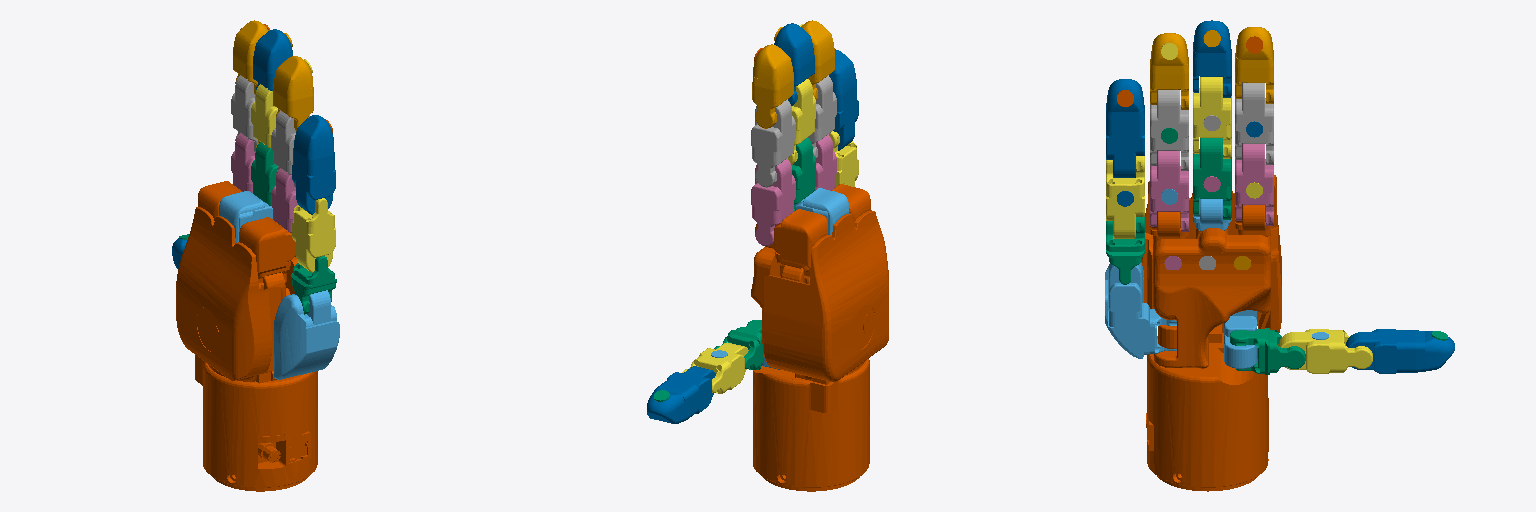
--- Render facts (derived) ---
3 views of the same robot in one strip: view 1: azimuth 30°, elevation 25°; view 2: azimuth 150°, elevation 25°; view 3: azimuth 270°, elevation 25° (orthographic).
Robot: tesollo_right — 38 links, 37 joints (20 revolute, 17 fixed); root link tesollo_right_rl_dg_mount; default pose: all joints at 0.
Links seen in each view (by area): view 1: tesollo_right_rl_dg_mount, tesollo_right_rl_dg_5_1, tesollo_right_rl_dg_5_4, tesollo_right_rl_dg_4_1, tesollo_right_rl_dg_5_3, tesollo_right_rl_dg_4_4, tesollo_right_rl_dg_3_4, tesollo_right_rl_dg_3_1, tesollo_right_rl_dg_5_2, tesollo_right_rl_dg_2_4, tesollo_right_rl_dg_2_3, tesollo_right_rl_dg_3_3 (+5 smaller); view 2: tesollo_right_rl_dg_mount, tesollo_right_rl_dg_1_4, tesollo_right_rl_dg_2_4, tesollo_right_rl_dg_2_1, tesollo_right_rl_dg_2_3, tesollo_right_rl_dg_2_2, tesollo_right_rl_dg_5_4, tesollo_right_rl_dg_1_3, tesollo_right_rl_dg_3_4, tesollo_right_rl_dg_4_4, tesollo_right_rl_dg_3_3, tesollo_right_rl_dg_4_3 (+6 smaller); view 3: tesollo_right_rl_dg_mount, tesollo_right_rl_dg_5_1, tesollo_right_rl_dg_1_4, tesollo_right_rl_dg_5_4, tesollo_right_rl_dg_1_3, tesollo_right_rl_dg_5_3, tesollo_right_rl_dg_2_2, tesollo_right_rl_dg_2_3, tesollo_right_rl_dg_3_2, tesollo_right_rl_dg_3_3, tesollo_right_rl_dg_4_3, tesollo_right_rl_dg_4_2 (+9 smaller).
Boxes of the visible links, left/top/right/bottom form: tesollo_right_rl_dg_mount: left=176, top=207, right=317, bottom=491; tesollo_right_rl_dg_5_1: left=274, top=290, right=339, bottom=379; tesollo_right_rl_dg_5_4: left=292, top=115, right=335, bottom=214; tesollo_right_rl_dg_4_1: left=239, top=217, right=295, bottom=290; tesollo_right_rl_dg_5_3: left=292, top=198, right=335, bottom=272; tesollo_right_rl_dg_4_4: left=273, top=56, right=313, bottom=130; tesollo_right_rl_dg_3_4: left=253, top=29, right=292, bottom=90; tesollo_right_rl_dg_3_1: left=219, top=191, right=272, bottom=242; tesollo_right_rl_dg_5_2: left=291, top=256, right=336, bottom=314; tesollo_right_rl_dg_2_4: left=233, top=20, right=268, bottom=94; tesollo_right_rl_dg_2_3: left=231, top=75, right=257, bottom=152; tesollo_right_rl_dg_3_3: left=251, top=84, right=277, bottom=147; tesollo_right_rl_dg_mount: left=751, top=210, right=888, bottom=491; tesollo_right_rl_dg_1_4: left=647, top=366, right=715, bottom=423; tesollo_right_rl_dg_2_4: left=752, top=44, right=793, bottom=128; tesollo_right_rl_dg_2_1: left=755, top=209, right=827, bottom=283; tesollo_right_rl_dg_2_3: left=751, top=99, right=795, bottom=187; tesollo_right_rl_dg_2_2: left=751, top=158, right=795, bottom=245; tesollo_right_rl_dg_5_4: left=829, top=49, right=858, bottom=150; tesollo_right_rl_dg_1_3: left=682, top=342, right=748, bottom=393; tesollo_right_rl_dg_3_4: left=774, top=23, right=814, bottom=105; tesollo_right_rl_dg_4_4: left=801, top=20, right=834, bottom=99; tesollo_right_rl_dg_3_3: left=788, top=79, right=815, bottom=164; tesollo_right_rl_dg_4_3: left=808, top=75, right=836, bottom=158; tesollo_right_rl_dg_mount: left=1141, top=191, right=1281, bottom=491; tesollo_right_rl_dg_5_1: left=1105, top=262, right=1176, bottom=358; tesollo_right_rl_dg_1_4: left=1346, top=329, right=1454, bottom=373; tesollo_right_rl_dg_5_4: left=1106, top=79, right=1144, bottom=177; tesollo_right_rl_dg_1_3: left=1278, top=329, right=1372, bottom=373; tesollo_right_rl_dg_5_3: left=1106, top=156, right=1144, bottom=238; tesollo_right_rl_dg_2_2: left=1235, top=143, right=1273, bottom=225; tesollo_right_rl_dg_2_3: left=1235, top=82, right=1273, bottom=164; tesollo_right_rl_dg_3_2: left=1193, top=138, right=1231, bottom=219; tesollo_right_rl_dg_3_3: left=1193, top=77, right=1231, bottom=158; tesollo_right_rl_dg_4_3: left=1150, top=89, right=1188, bottom=170; tesollo_right_rl_dg_4_2: left=1150, top=150, right=1188, bottom=231.
Size in the robot's own frame: 0.0735 by 0.2022 by 0.2911 metres.
28 mesh visuals loaded from 28 distinct referenced files (28 OBJ).

URDF robot description (tesollo_right):
<?xml version='1.0' encoding='UTF-8'?>
<robot name="tesollo_right">
  <joint name="rj_dg_1_1" type="revolute">
    <origin xyz="-0.0162 0.019 0.0866" rpy="0. 0. 0." />
    <parent link="tesollo_right_rl_dg_mount" />
    <child link="tesollo_right_rl_dg_1_1" />
    <axis xyz="1. 0. 0." />
    <limit lower="-0.3839724" upper="0.8901179" effort="7.5" velocity="3.1415927" />
  </joint>
  <joint name="rj_dg_1_2" type="revolute">
    <origin xyz="0.04195 0. 0. " rpy="0. 0. 0." />
    <parent link="tesollo_right_rl_dg_1_1" />
    <child link="tesollo_right_rl_dg_1_2" />
    <axis xyz="0. 0. 1." />
    <limit lower="-3.1415927" upper="0." effort="7.5" velocity="3.1415927" />
  </joint>
  <joint name="rj_dg_1_3" type="revolute">
    <origin xyz="0. 0.031 0. " rpy="0. 0. 0." />
    <parent link="tesollo_right_rl_dg_1_2" />
    <child link="tesollo_right_rl_dg_1_3" />
    <axis xyz="1. 0. 0." />
    <limit lower="-1.5707963" upper="1.5707963" effort="7.5" velocity="3.1415927" />
  </joint>
  <joint name="rj_dg_1_4" type="revolute">
    <origin xyz="0. 0.0388 0. " rpy="0. 0. 0." />
    <parent link="tesollo_right_rl_dg_1_3" />
    <child link="tesollo_right_rl_dg_1_4" />
    <axis xyz="1. 0. 0." />
    <limit lower="-1.5707963" upper="1.5707963" effort="7.5" velocity="3.1415927" />
  </joint>
  <joint name="rj_dg_2_1" type="revolute">
    <origin xyz="-0.0071 0.027 0.1399" rpy="0. 0. 0." />
    <parent link="tesollo_right_rl_dg_mount" />
    <child link="tesollo_right_rl_dg_2_1" />
    <axis xyz="1. 0. 0." />
    <limit lower="-0.418879" upper="0.6108652" effort="7.5" velocity="3.1415927" />
  </joint>
  <joint name="rj_dg_2_2" type="revolute">
    <origin xyz="0.01765 0. 0.0265 " rpy="0. 0. 0." />
    <parent link="tesollo_right_rl_dg_2_1" />
    <child link="tesollo_right_rl_dg_2_2" />
    <axis xyz="0. 1. 0." />
    <limit lower="0." upper="2.0071286" effort="7.5" velocity="3.1415927" />
  </joint>
  <joint name="rj_dg_2_3" type="revolute">
    <origin xyz="0. 0. 0.0388" rpy="0. 0. 0." />
    <parent link="tesollo_right_rl_dg_2_2" />
    <child link="tesollo_right_rl_dg_2_3" />
    <axis xyz="0. 1. 0." />
    <limit lower="-1.5707963" upper="1.5707963" effort="7.5" velocity="3.1415927" />
  </joint>
  <joint name="rj_dg_2_4" type="revolute">
    <origin xyz="0. 0. 0.0388" rpy="0. 0. 0." />
    <parent link="tesollo_right_rl_dg_2_3" />
    <child link="tesollo_right_rl_dg_2_4" />
    <axis xyz="0. 1. 0." />
    <limit lower="-1.5707963" upper="1.5707963" effort="7.5" velocity="3.1415927" />
  </joint>
  <joint name="rj_dg_3_1" type="revolute">
    <origin xyz="-0.0071 0.0025 0.1439" rpy="0. 0. 0." />
    <parent link="tesollo_right_rl_dg_mount" />
    <child link="tesollo_right_rl_dg_3_1" />
    <axis xyz="1. 0. 0." />
    <limit lower="-0.6108652" upper="0.6108652" effort="7.5" velocity="3.1415927" />
  </joint>
  <joint name="rj_dg_3_2" type="revolute">
    <origin xyz="0.01765 0. 0.0265 " rpy="0. 0. 0." />
    <parent link="tesollo_right_rl_dg_3_1" />
    <child link="tesollo_right_rl_dg_3_2" />
    <axis xyz="0. 1. 0." />
    <limit lower="0." upper="1.9547686" effort="7.5" velocity="3.1415927" />
  </joint>
  <joint name="rj_dg_3_3" type="revolute">
    <origin xyz="0. 0. 0.0388" rpy="0. 0. 0." />
    <parent link="tesollo_right_rl_dg_3_2" />
    <child link="tesollo_right_rl_dg_3_3" />
    <axis xyz="0. 1. 0." />
    <limit lower="-1.5707963" upper="1.5707963" effort="7.5" velocity="3.1415927" />
  </joint>
  <joint name="rj_dg_3_4" type="revolute">
    <origin xyz="0. 0. 0.0388" rpy="0. 0. 0." />
    <parent link="tesollo_right_rl_dg_3_3" />
    <child link="tesollo_right_rl_dg_3_4" />
    <axis xyz="0. 1. 0." />
    <limit lower="-1.5707963" upper="1.5707963" effort="7.5" velocity="3.1415927" />
  </joint>
  <joint name="rj_dg_4_1" type="revolute">
    <origin xyz="-0.0071 -0.022 0.1359" rpy="0. 0. 0." />
    <parent link="tesollo_right_rl_dg_mount" />
    <child link="tesollo_right_rl_dg_4_1" />
    <axis xyz="1. 0. 0." />
    <limit lower="-0.6108652" upper="0.418879" effort="7.5" velocity="3.1415927" />
  </joint>
  <joint name="rj_dg_4_2" type="revolute">
    <origin xyz="0.01765 0. 0.0265 " rpy="0. 0. 0." />
    <parent link="tesollo_right_rl_dg_4_1" />
    <child link="tesollo_right_rl_dg_4_2" />
    <axis xyz="0. 1. 0." />
    <limit lower="0." upper="1.9024088" effort="7.5" velocity="3.1415927" />
  </joint>
  <joint name="rj_dg_4_3" type="revolute">
    <origin xyz="0. 0. 0.0388" rpy="0. 0. 0." />
    <parent link="tesollo_right_rl_dg_4_2" />
    <child link="tesollo_right_rl_dg_4_3" />
    <axis xyz="0. 1. 0." />
    <limit lower="-1.5707963" upper="1.5707963" effort="7.5" velocity="3.1415927" />
  </joint>
  <joint name="rj_dg_4_4" type="revolute">
    <origin xyz="0. 0. 0.0388" rpy="0. 0. 0." />
    <parent link="tesollo_right_rl_dg_4_3" />
    <child link="tesollo_right_rl_dg_4_4" />
    <axis xyz="0. 1. 0." />
    <limit lower="-1.5707963" upper="1.5707963" effort="7.5" velocity="3.1415927" />
  </joint>
  <joint name="rj_dg_5_1" type="revolute">
    <origin xyz="0.0103 -0.0195 0.092 " rpy="0. 0. 0." />
    <parent link="tesollo_right_rl_dg_mount" />
    <child link="tesollo_right_rl_dg_5_1" />
    <axis xyz="0. 0. 1." />
    <limit lower="-0.0174533" upper="1.0471976" effort="7.5" velocity="3.1415927" />
  </joint>
  <joint name="rj_dg_5_2" type="revolute">
    <origin xyz="0. -0.028 0.0381" rpy="0. 0. 0." />
    <parent link="tesollo_right_rl_dg_5_1" />
    <child link="tesollo_right_rl_dg_5_2" />
    <axis xyz="1. 0. 0." />
    <limit lower="-0.418879" upper="0.6108652" effort="7.5" velocity="3.1415927" />
  </joint>
  <joint name="rj_dg_5_3" type="revolute">
    <origin xyz="0. 0. 0.031" rpy="0. 0. 0." />
    <parent link="tesollo_right_rl_dg_5_2" />
    <child link="tesollo_right_rl_dg_5_3" />
    <axis xyz="0. 1. 0." />
    <limit lower="-1.5707963" upper="1.5707963" effort="7.5" velocity="3.1415927" />
  </joint>
  <joint name="rj_dg_5_4" type="revolute">
    <origin xyz="0. 0. 0.0388" rpy="0. 0. 0." />
    <parent link="tesollo_right_rl_dg_5_3" />
    <child link="tesollo_right_rl_dg_5_4" />
    <axis xyz="0. 1. 0." />
    <limit lower="-1.5707963" upper="1.5707963" effort="7.5" velocity="3.1415927" />
  </joint>
  <joint name="rl_dg_ee_joint" type="fixed">
    <origin xyz="0.023 0. 0.13" rpy="1.5707963 3.1415927 1.5707963" />
    <parent link="tesollo_right_rl_dg_mount" />
    <child link="rl_dg_ee" />
  </joint>
  <link name="rl_dg_ee">
    <inertial>
      <origin xyz="0. 0. 0." rpy="0. 0. 0." />
      <mass value="0.001" />
      <inertia ixx="1e-6" ixy="0." ixz="0." iyy="1e-6" iyz="0." izz="1e-6" />
    </inertial>
    <visual>
      <origin xyz="0. 0. 0." rpy="0. 0. 0." />
      <geometry>
        <sphere radius="0.0001" />
      </geometry>
    </visual>
    <collision>
      <origin xyz="0. 0. 0." rpy="0. 0. 0." />
      <geometry>
        <sphere radius="0.0001" />
      </geometry>
    </collision>
  </link>
  <link name="tesollo_right_rl_dg_1_1">
    <inertial>
      <origin xyz="0.021473 0.0000031 0.0028146" rpy="0. 0. 0." />
      <mass value="0.045" />
      <inertia ixx="0.0000043" ixy="0." ixz="0.0000029" iyy="0.0000137" iyz="-0." izz="0.0000122" />
    </inertial>
    <visual>
      <origin xyz="0. 0. 0." rpy="1.5707872 0. 0. " />
      <geometry>
        <mesh filename="meshes/tesollo_right_rl_dg_1_1_visuals_rl_dg_1_1_mesh.obj" scale="1. 1. 1." />
      </geometry>
    </visual>
    <collision>
      <origin xyz="0. 0. 0." rpy="1.5707872 0. 0." />
      <geometry>
        <mesh filename="meshes/rl_dg_1_1_c_mesh.obj" scale="1. 1. 1." />
      </geometry>
    </collision>
  </link>
  <link name="tesollo_right_rl_dg_1_2">
    <inertial>
      <origin xyz="0.0005563 0.0155 0.0005563" rpy="0. 0. 0." />
      <mass value="0.025" />
      <inertia ixx="0.000002" ixy="-0.0000002" ixz="0." iyy="0.0000015" iyz="0.0000002" izz="0.000002" />
    </inertial>
    <visual>
      <origin xyz="0. 0. 0." rpy="1.5707872 0. 0. " />
      <geometry>
        <mesh filename="meshes/tesollo_right_rl_dg_1_2_visuals_rl_dg_1_2_mesh.obj" scale="1. 1. 1." />
      </geometry>
    </visual>
    <collision>
      <origin xyz="0. 0. 0." rpy="1.5707872 0. 0." />
      <geometry>
        <mesh filename="meshes/rl_dg_1_2_c_mesh.obj" scale="1. 1. 1." />
      </geometry>
    </collision>
  </link>
  <link name="tesollo_right_rl_dg_1_3">
    <inertial>
      <origin xyz="0.000023 0.014842 0.0000047" rpy="0. 0. 0." />
      <mass value="0.045" />
      <inertia ixx="0.000006" ixy="-0.0000004" ixz="-0." iyy="0.0000025" iyz="-0." izz="0.0000064" />
    </inertial>
    <visual>
      <origin xyz="0. 0. 0." rpy="1.5707872 0. 0. " />
      <geometry>
        <mesh filename="meshes/tesollo_right_rl_dg_1_3_visuals_rl_dg_1_3_mesh.obj" scale="1. 1. 1." />
      </geometry>
    </visual>
    <collision>
      <origin xyz="0. 0. 0." rpy="1.5707872 0. 0." />
      <geometry>
        <mesh filename="meshes/rl_dg_1_3_c_mesh.obj" scale="1. 1. 1." />
      </geometry>
    </collision>
  </link>
  <link name="tesollo_right_rl_dg_1_4">
    <inertial>
      <origin xyz="-0.0001843 0.0212612 0.0000518" rpy="0. 0. 0." />
      <mass value="0.05" />
      <inertia ixx="0.0000125" ixy="-0.0000002" ixz="-0." iyy="0.0000033" iyz="-0.0000001" izz="0.0000129" />
    </inertial>
    <visual>
      <origin xyz="0. 0. 0." rpy="1.5707872 0. 0. " />
      <geometry>
        <mesh filename="meshes/tesollo_right_rl_dg_1_4_visuals_rl_dg_1_4_mesh.obj" scale="1. 1. 1." />
      </geometry>
    </visual>
    <visual>
      <origin xyz="0. 0.0363 0. " rpy="1.5707872 0. 0. " />
      <geometry>
        <mesh filename="meshes/tesollo_right_rl_dg_1_4_visuals_rl_dg_1_tip_mesh.obj" scale="1. 1. 1." />
      </geometry>
    </visual>
    <collision>
      <origin xyz="0. 0. 0." rpy="1.5707872 0. 0." />
      <geometry>
        <mesh filename="meshes/rl_dg_1_4_c_mesh.obj" scale="1. 1. 1." />
      </geometry>
    </collision>
    <collision>
      <origin xyz="0. 0.0363 0. " rpy="1.5707872 0. 0." />
      <geometry>
        <mesh filename="meshes/rl_dg_1_tip_c_mesh.obj" scale="1. 1. 1." />
      </geometry>
    </collision>
  </link>
  <link name="tesollo_right_rl_dg_2_1">
    <inertial>
      <origin xyz="0.001061 0.0002442 0.023499 " rpy="0. 0. 0." />
      <mass value="0.045" />
      <inertia ixx="0.0000066" ixy="0." ixz="-0.0000012" iyy="0.0000095" iyz="0.0000001" izz="0.0000071" />
    </inertial>
    <visual>
      <origin xyz="0. 0. 0." rpy="1.5707872 0. 0. " />
      <geometry>
        <mesh filename="meshes/tesollo_right_rl_dg_2_1_visuals_rl_dg_2_1_mesh.obj" scale="1. 1. 1." />
      </geometry>
    </visual>
    <collision>
      <origin xyz="0. 0. 0." rpy="1.5707872 0. 0." />
      <geometry>
        <mesh filename="meshes/rl_dg_2_1_c_mesh.obj" scale="1. 1. 1." />
      </geometry>
    </collision>
  </link>
  <link name="tesollo_right_rl_dg_2_2">
    <inertial>
      <origin xyz="-0.0000047 0.000023 0.023958 " rpy="0. 0. 0." />
      <mass value="0.045" />
      <inertia ixx="0.0000064" ixy="0." ixz="-0." iyy="0.000006" iyz="0.0000004" izz="0.0000025" />
    </inertial>
    <visual>
      <origin xyz="0. 0. 0." rpy="1.5707872 0. 0. " />
      <geometry>
        <mesh filename="meshes/tesollo_right_rl_dg_2_2_visuals_rl_dg_2_2_mesh.obj" scale="1. 1. 1." />
      </geometry>
    </visual>
    <collision>
      <origin xyz="0. 0. 0." rpy="1.5707872 0. 0." />
      <geometry>
        <mesh filename="meshes/rl_dg_2_2_c_mesh.obj" scale="1. 1. 1." />
      </geometry>
    </collision>
  </link>
  <link name="tesollo_right_rl_dg_2_3">
    <inertial>
      <origin xyz="-0.0000047 0.000023 0.023958 " rpy="0. 0. 0." />
      <mass value="0.045" />
      <inertia ixx="0.0000064" ixy="0." ixz="-0." iyy="0.000006" iyz="0.0000004" izz="0.0000025" />
    </inertial>
    <visual>
      <origin xyz="0. 0. 0." rpy="1.5707872 0. 0. " />
      <geometry>
        <mesh filename="meshes/tesollo_right_rl_dg_2_3_visuals_rl_dg_2_3_mesh.obj" scale="1. 1. 1." />
      </geometry>
    </visual>
    <collision>
      <origin xyz="0. 0. 0." rpy="1.5707872 0. 0." />
      <geometry>
        <mesh filename="meshes/rl_dg_2_3_c_mesh.obj" scale="1. 1. 1." />
      </geometry>
    </collision>
  </link>
  <link name="tesollo_right_rl_dg_2_4">
    <inertial>
      <origin xyz="0.0000442 0.0003587 0.0203112" rpy="0. 0. 0." />
      <mass value="0.03" />
      <inertia ixx="0.0000041" ixy="0." ixz="-0.0000001" iyy="0.0000036" iyz="0.0000002" izz="0.000002" />
    </inertial>
    <visual>
      <origin xyz="0. 0. 0." rpy="1.5707872 0. 0. " />
      <geometry>
        <mesh filename="meshes/tesollo_right_rl_dg_2_4_visuals_rl_dg_2_4_mesh.obj" scale="1. 1. 1." />
      </geometry>
    </visual>
    <visual>
      <origin xyz="0. 0. 0.0255" rpy="1.5707872 0. 0. " />
      <geometry>
        <mesh filename="meshes/tesollo_right_rl_dg_2_4_visuals_rl_dg_2_tip_mesh.obj" scale="1. 1. 1." />
      </geometry>
    </visual>
    <collision>
      <origin xyz="0. 0. 0." rpy="1.5707872 0. 0." />
      <geometry>
        <mesh filename="meshes/rl_dg_2_4_c_mesh.obj" scale="1. 1. 1." />
      </geometry>
    </collision>
    <collision>
      <origin xyz="0. 0. 0.0255" rpy="1.5707872 0. 0." />
      <geometry>
        <mesh filename="meshes/rl_dg_2_tip_c_mesh.obj" scale="1. 1. 1." />
      </geometry>
    </collision>
  </link>
  <link name="tesollo_right_rl_dg_3_1">
    <inertial>
      <origin xyz="0.0012558 -0.000177 0.023374 " rpy="0. 0. 0." />
      <mass value="0.045" />
      <inertia ixx="0.0000062" ixy="0.0000001" ixz="-0.0000012" iyy="0.0000093" iyz="0." izz="0.0000068" />
    </inertial>
    <visual>
      <origin xyz="0. 0. 0." rpy="1.5707872 0. 0. " />
      <geometry>
        <mesh filename="meshes/tesollo_right_rl_dg_3_1_visuals_rl_dg_3_1_mesh.obj" scale="1. 1. 1." />
      </geometry>
    </visual>
    <collision>
      <origin xyz="0. 0. 0." rpy="1.5707872 0. 0." />
      <geometry>
        <mesh filename="meshes/rl_dg_3_1_c_mesh.obj" scale="1. 1. 1." />
      </geometry>
    </collision>
  </link>
  <link name="tesollo_right_rl_dg_3_2">
    <inertial>
      <origin xyz="-0.0000047 0.000023 0.023958 " rpy="0. 0. 0." />
      <mass value="0.045" />
      <inertia ixx="0.0000064" ixy="0." ixz="-0." iyy="0.000006" iyz="0.0000004" izz="0.0000025" />
    </inertial>
    <visual>
      <origin xyz="0. 0. 0." rpy="1.5707872 0. 0. " />
      <geometry>
        <mesh filename="meshes/tesollo_right_rl_dg_3_2_visuals_rl_dg_3_2_mesh.obj" scale="1. 1. 1." />
      </geometry>
    </visual>
    <collision>
      <origin xyz="0. 0. 0." rpy="1.5707872 0. 0." />
      <geometry>
        <mesh filename="meshes/rl_dg_3_2_c_mesh.obj" scale="1. 1. 1." />
      </geometry>
    </collision>
  </link>
  <link name="tesollo_right_rl_dg_3_3">
    <inertial>
      <origin xyz="-0.0000047 0.000023 0.023958 " rpy="0. 0. 0." />
      <mass value="0.045" />
      <inertia ixx="0.0000064" ixy="0." ixz="-0." iyy="0.000006" iyz="0.0000004" izz="0.0000025" />
    </inertial>
    <visual>
      <origin xyz="0. 0. 0." rpy="1.5707872 0. 0. " />
      <geometry>
        <mesh filename="meshes/tesollo_right_rl_dg_3_3_visuals_rl_dg_3_3_mesh.obj" scale="1. 1. 1." />
      </geometry>
    </visual>
    <collision>
      <origin xyz="0. 0. 0." rpy="1.5707872 0. 0." />
      <geometry>
        <mesh filename="meshes/rl_dg_3_3_c_mesh.obj" scale="1. 1. 1." />
      </geometry>
    </collision>
  </link>
  <link name="tesollo_right_rl_dg_3_4">
    <inertial>
      <origin xyz="0.0000442 0.0003587 0.0203112" rpy="0. 0. 0." />
      <mass value="0.03" />
      <inertia ixx="0.0000041" ixy="0." ixz="-0.0000001" iyy="0.0000036" iyz="0.0000002" izz="0.000002" />
    </inertial>
    <visual>
      <origin xyz="0. 0. 0." rpy="1.5707872 0. 0. " />
      <geometry>
        <mesh filename="meshes/tesollo_right_rl_dg_3_4_visuals_rl_dg_3_4_mesh.obj" scale="1. 1. 1." />
      </geometry>
    </visual>
    <visual>
      <origin xyz="0. 0. 0.0255" rpy="1.5707872 0. 0. " />
      <geometry>
        <mesh filename="meshes/tesollo_right_rl_dg_3_4_visuals_rl_dg_3_tip_mesh.obj" scale="1. 1. 1." />
      </geometry>
    </visual>
    <collision>
      <origin xyz="0. 0. 0." rpy="1.5707872 0. 0." />
      <geometry>
        <mesh filename="meshes/rl_dg_3_4_c_mesh.obj" scale="1. 1. 1." />
      </geometry>
    </collision>
    <collision>
      <origin xyz="0. 0. 0.0255" rpy="1.5707872 0. 0." />
      <geometry>
        <mesh filename="meshes/rl_dg_3_tip_c_mesh.obj" scale="1. 1. 1." />
      </geometry>
    </collision>
  </link>
  <link name="tesollo_right_rl_dg_4_1">
    <inertial>
      <origin xyz="0.0000606 -0.0005857 0.023499 " rpy="0. 0. 0." />
      <mass value="0.045" />
      <inertia ixx="0.0000066" ixy="0.0000002" ixz="-0.0000012" iyy="0.0000095" iyz="-0." izz="0.0000071" />
    </inertial>
    <visual>
      <origin xyz="0. 0. 0." rpy="1.5707872 0. 0. " />
      <geometry>
        <mesh filename="meshes/tesollo_right_rl_dg_4_1_visuals_rl_dg_4_1_mesh.obj" scale="1. 1. 1." />
      </geometry>
    </visual>
    <collision>
      <origin xyz="0. 0. 0." rpy="1.5707872 0. 0." />
      <geometry>
        <mesh filename="meshes/rl_dg_4_1_c_mesh.obj" scale="1. 1. 1." />
      </geometry>
    </collision>
  </link>
  <link name="tesollo_right_rl_dg_4_2">
    <inertial>
      <origin xyz="-0.0000047 0.000023 0.023958 " rpy="0. 0. 0." />
      <mass value="0.045" />
      <inertia ixx="0.0000064" ixy="0." ixz="-0." iyy="0.000006" iyz="0.0000004" izz="0.0000025" />
    </inertial>
    <visual>
      <origin xyz="0. 0. 0." rpy="1.5707872 0. 0. " />
      <geometry>
        <mesh filename="meshes/tesollo_right_rl_dg_4_2_visuals_rl_dg_4_2_mesh.obj" scale="1. 1. 1." />
      </geometry>
    </visual>
    <collision>
      <origin xyz="0. 0. 0." rpy="1.5707872 0. 0." />
      <geometry>
        <mesh filename="meshes/rl_dg_4_2_c_mesh.obj" scale="1. 1. 1." />
      </geometry>
    </collision>
  </link>
  <link name="tesollo_right_rl_dg_4_3">
    <inertial>
      <origin xyz="-0.0000047 0.000023 0.023958 " rpy="0. 0. 0." />
      <mass value="0.045" />
      <inertia ixx="0.0000064" ixy="0." ixz="-0." iyy="0.000006" iyz="0.0000004" izz="0.0000025" />
    </inertial>
    <visual>
      <origin xyz="0. 0. 0." rpy="1.5707872 0. 0. " />
      <geometry>
        <mesh filename="meshes/tesollo_right_rl_dg_4_3_visuals_rl_dg_4_3_mesh.obj" scale="1. 1. 1." />
      </geometry>
    </visual>
    <collision>
      <origin xyz="0. 0. 0." rpy="1.5707872 0. 0." />
      <geometry>
        <mesh filename="meshes/rl_dg_4_3_c_mesh.obj" scale="1. 1. 1." />
      </geometry>
    </collision>
  </link>
  <link name="tesollo_right_rl_dg_4_4">
    <inertial>
      <origin xyz="0.0000442 0.0003587 0.0203112" rpy="0. 0. 0." />
      <mass value="0.03" />
      <inertia ixx="0.0000041" ixy="0." ixz="-0.0000001" iyy="0.0000036" iyz="0.0000002" izz="0.000002" />
    </inertial>
    <visual>
      <origin xyz="0. 0. 0." rpy="1.5707872 0. 0. " />
      <geometry>
        <mesh filename="meshes/tesollo_right_rl_dg_4_4_visuals_rl_dg_4_4_mesh.obj" scale="1. 1. 1." />
      </geometry>
    </visual>
    <visual>
      <origin xyz="0. 0. 0.0255" rpy="1.5707872 0. 0. " />
      <geometry>
        <mesh filename="meshes/tesollo_right_rl_dg_4_4_visuals_rl_dg_4_tip_mesh.obj" scale="1. 1. 1." />
      </geometry>
    </visual>
    <collision>
      <origin xyz="0. 0. 0." rpy="1.5707872 0. 0." />
      <geometry>
        <mesh filename="meshes/rl_dg_4_4_c_mesh.obj" scale="1. 1. 1." />
      </geometry>
    </collision>
    <collision>
      <origin xyz="0. 0. 0.0255" rpy="1.5707872 0. 0." />
      <geometry>
        <mesh filename="meshes/rl_dg_4_tip_c_mesh.obj" scale="1. 1. 1." />
      </geometry>
    </collision>
  </link>
  <link name="tesollo_right_rl_dg_5_1">
    <inertial>
      <origin xyz="-0.0043301 -0.0250157 0.0140244" rpy="0. 0. 0." />
      <mass value="0.055" />
      <inertia ixx="0.0000236" ixy="0.0000003" ixz="0.0000023" iyy="0.0000237" iyz="0.0000045" izz="0.0000113" />
    </inertial>
    <visual>
      <origin xyz="0. 0. 0." rpy="1.5707872 0. 0. " />
      <geometry>
        <mesh filename="meshes/tesollo_right_rl_dg_5_1_visuals_rl_dg_5_1_mesh.obj" scale="1. 1. 1." />
      </geometry>
    </visual>
    <collision>
      <origin xyz="0. 0. 0." rpy="1.5707872 0. 0." />
      <geometry>
        <mesh filename="meshes/rl_dg_5_1_c_mesh.obj" scale="1. 1. 1." />
      </geometry>
    </collision>
  </link>
  <link name="tesollo_right_rl_dg_5_2">
    <inertial>
      <origin xyz="-0.0005376 0.0005376 0.0155001" rpy="0. 0. 0." />
      <mass value="0.025" />
      <inertia ixx="0.000002" ixy="-0." ixz="-0.0000002" iyy="0.000002" iyz="-0.0000002" izz="0.0000015" />
    </inertial>
    <visual>
      <origin xyz="0. 0. 0." rpy="1.5707872 0. 0. " />
      <geometry>
        <mesh filename="meshes/tesollo_right_rl_dg_5_2_visuals_rl_dg_5_2_mesh.obj" scale="1. 1. 1." />
      </geometry>
    </visual>
    <collision>
      <origin xyz="0. 0. 0." rpy="1.5707872 0. 0." />
      <geometry>
        <mesh filename="meshes/rl_dg_5_2_c_mesh.obj" scale="1. 1. 1." />
      </geometry>
    </collision>
  </link>
  <link name="tesollo_right_rl_dg_5_3">
    <inertial>
      <origin xyz="0.0000047 0.000023 0.0148419" rpy="0. 0. 0." />
      <mass value="0.045" />
      <inertia ixx="0.0000064" ixy="-0." ixz="-0." iyy="0.000006" iyz="-0.0000004" izz="0.0000025" />
    </inertial>
    <visual>
      <origin xyz="0. 0. 0." rpy="1.5707872 0. 0. " />
      <geometry>
        <mesh filename="meshes/tesollo_right_rl_dg_5_3_visuals_rl_dg_5_3_mesh.obj" scale="1. 1. 1." />
      </geometry>
    </visual>
    <collision>
      <origin xyz="0. 0. 0." rpy="1.5707872 0. 0." />
      <geometry>
        <mesh filename="meshes/rl_dg_5_3_c_mesh.obj" scale="1. 1. 1." />
      </geometry>
    </collision>
  </link>
  <link name="tesollo_right_rl_dg_5_4">
    <inertial>
      <origin xyz="0.0000518 -0.0001843 0.0212609" rpy="0. 0. 0." />
      <mass value="0.05" />
      <inertia ixx="0.0000129" ixy="-0." ixz="-0.0000001" iyy="0.0000125" iyz="-0.0000002" izz="0.0000033" />
    </inertial>
    <visual>
      <origin xyz="0. 0. 0." rpy="1.5707872 0. 0. " />
      <geometry>
        <mesh filename="meshes/tesollo_right_rl_dg_5_4_visuals_rl_dg_5_4_mesh.obj" scale="1. 1. 1." />
      </geometry>
    </visual>
    <visual>
      <origin xyz="0. 0. 0.0363" rpy="1.5707872 0. 0. " />
      <geometry>
        <mesh filename="meshes/tesollo_right_rl_dg_5_4_visuals_rl_dg_5_tip_mesh.obj" scale="1. 1. 1." />
      </geometry>
    </visual>
    <collision>
      <origin xyz="0. 0. 0." rpy="1.5707872 0. 0." />
      <geometry>
        <mesh filename="meshes/rl_dg_5_4_c_mesh.obj" scale="1. 1. 1." />
      </geometry>
    </collision>
    <collision>
      <origin xyz="0. 0. 0.0363" rpy="1.5707872 0. 0." />
      <geometry>
        <mesh filename="meshes/rl_dg_5_tip_c_mesh.obj" scale="1. 1. 1." />
      </geometry>
    </collision>
  </link>
  <link name="tesollo_right_rl_dg_mount">
    <inertial>
      <origin xyz="-0.0040007 0.0006643 0.0695966" rpy="0. 0. 0." />
      <mass value="0.85" />
      <inertia ixx="0.0023165" ixy="0.0000138" ixz="0.0001302" iyy="0.0022259" iyz="-0.0000629" izz="0.0009268" />
    </inertial>
    <visual>
      <origin xyz="0. 0. 0." rpy="1.5707872 0. 0. " />
      <geometry>
        <mesh filename="meshes/tesollo_right_rl_dg_mount_visuals_rl_dg_mount_mesh.obj" scale="1. 1. 1." />
      </geometry>
    </visual>
    <visual>
      <origin xyz="0. 0. 0.004" rpy="1.5707872 0. 0. " />
      <geometry>
        <mesh filename="meshes/tesollo_right_rl_dg_mount_visuals_rl_dg_base_mesh.obj" scale="1. 1. 1." />
      </geometry>
    </visual>
    <visual>
      <origin xyz="0. 0. 0.0738" rpy="1.5707872 0. 0. " />
      <geometry>
        <mesh filename="meshes/tesollo_right_rl_dg_mount_visuals_rl_dg_palm_mesh.obj" scale="1. 1. 1." />
      </geometry>
    </visual>
    <collision>
      <origin xyz="0. 0. 0." rpy="1.5707872 0. 0." />
      <geometry>
        <mesh filename="meshes/rl_dg_mount_c_mesh.obj" scale="1. 1. 1." />
      </geometry>
    </collision>
    <collision>
      <origin xyz="0. 0. 0.004" rpy="1.5707872 0. 0." />
      <geometry>
        <mesh filename="meshes/rl_dg_base_c_mesh.obj" scale="1. 1. 1." />
      </geometry>
    </collision>
    <collision>
      <origin xyz="0. 0. 0.0738" rpy="1.5707872 0. 0." />
      <geometry>
        <mesh filename="meshes/rl_dg_palm_c_mesh.obj" scale="1. 1. 1." />
      </geometry>
    </collision>
  </link>
  <!-- Palm Sensor Links -->
  <joint name="tesollo_right_palm_sensor_joint1" type="fixed">
    <origin xyz="0.02 -0.02 0.14" rpy="0 1.5708 0" />
    <parent link="tesollo_right_rl_dg_mount" />
    <child link="tesollo_right_palm_sensor_link1" />
  </joint>
  <link name="tesollo_right_palm_sensor_link1">
    <inertial>
      <mass value="0.001"/>
      <inertia ixx="0.00001" ixy="0" ixz="0" iyy="0.00001" iyz="0" izz="0.00001"/>
    </inertial>
    <visual>
      <geometry>
        <cylinder radius="0.005" length="0.001" />
      </geometry>
    </visual>
    <collision>
      <geometry>
        <cylinder radius="0.005" length="0.001" />
      </geometry>
    </collision>
  </link>

  <joint name="tesollo_right_palm_sensor_joint2" type="fixed">
    <origin xyz="0.02 0 0.14" rpy="0 1.5708 0" />
    <parent link="tesollo_right_rl_dg_mount" />
    <child link="tesollo_right_palm_sensor_link2" />
  </joint>
  <link name="tesollo_right_palm_sensor_link2">
    <inertial>
      <mass value="0.001"/>
      <inertia ixx="0.00001" ixy="0" ixz="0" iyy="0.00001" iyz="0" izz="0.00001"/>
    </inertial>
    <visual>
      <geometry>
        <cylinder radius="0.005" length="0.001" />
      </geometry>
    </visual>
    <collision>
      <geometry>
        <cylinder radius="0.005" length="0.001" />
      </geometry>
    </collision>
  </link>

  <joint name="tesollo_right_palm_sensor_joint3" type="fixed">
    <origin xyz="0.02 0.02 0.14" rpy="0 1.5708 0" />
    <parent link="tesollo_right_rl_dg_mount" />
    <child link="tesollo_right_palm_sensor_link3" />
  </joint>
  <link name="tesollo_right_palm_sensor_link3">
    <inertial>
      <mass value="0.001"/>
      <inertia ixx="0.00001" ixy="0" ixz="0" iyy="0.00001" iyz="0" izz="0.00001"/>
    </inertial>
    <visual>
      <geometry>
        <cylinder radius="0.005" length="0.001" />
      </geometry>
    </visual>
    <collision>
      <geometry>
        <cylinder radius="0.005" length="0.001" />
      </geometry>
    </collision>
  </link>

  <!-- Finger 1 Sensor Links -->
  <joint name="tesollo_right_finger_1_seg3_sensor_joint" type="fixed">
    <origin xyz="0 0.015 0.0095" rpy="0 0 0" />
    <parent link="tesollo_right_rl_dg_1_3" />
    <child link="tesollo_right_finger_1_seg3_sensor_link" />
  </joint>
  <link name="tesollo_right_finger_1_seg3_sensor_link">
    <inertial>
      <mass value="0.001"/>
      <inertia ixx="0.00001" ixy="0" ixz="0" iyy="0.00001" iyz="0" izz="0.00001"/>
    </inertial>
    <visual>
      <geometry>
        <cylinder radius="0.005" length="0.001" />
      </geometry>
    </visual>
    <collision>
      <geometry>
        <cylinder radius="0.005" length="0.001" />
      </geometry>
    </collision>
  </link>

  <joint name="tesollo_right_finger_1_tip_sensor_joint" type="fixed">
    <origin xyz="0 0.045 0.01" rpy="-0.261799 0 0" />
    <parent link="tesollo_right_rl_dg_1_4" />
    <child link="tesollo_right_finger_1_tip_sensor_link" />
  </joint>
  <link name="tesollo_right_finger_1_tip_sensor_link">
    <inertial>
      <mass value="0.001"/>
      <inertia ixx="0.00001" ixy="0" ixz="0" iyy="0.00001" iyz="0" izz="0.00001"/>
    </inertial>
    <visual>
      <geometry>
        <cylinder radius="0.005" length="0.001" />
      </geometry>
    </visual>
    <collision>
      <geometry>
        <cylinder radius="0.005" length="0.001" />
      </geometry>
    </collision>
  </link>

  <!-- Finger 2 Sensor Links -->
  <joint name="tesollo_right_finger_2_seg2_sensor_joint" type="fixed">
    <origin xyz="0.0095 0 0.02" rpy="0 1.5708 0" />
    <parent link="tesollo_right_rl_dg_2_2" />
    <child link="tesollo_right_finger_2_seg2_sensor_link" />
  </joint>
  <link name="tesollo_right_finger_2_seg2_sensor_link">
    <inertial>
      <mass value="0.001"/>
      <inertia ixx="0.00001" ixy="0" ixz="0" iyy="0.00001" iyz="0" izz="0.00001"/>
    </inertial>
    <visual>
      <geometry>
        <cylinder radius="0.005" length="0.001" />
      </geometry>
    </visual>
    <collision>
      <geometry>
        <cylinder radius="0.005" length="0.001" />
      </geometry>
    </collision>
  </link>

  <joint name="tesollo_right_finger_2_seg3_sensor_joint" type="fixed">
    <origin xyz="0.0095 0 0.02" rpy="0 1.5708 0" />
    <parent link="tesollo_right_rl_dg_2_3" />
    <child link="tesollo_right_finger_2_seg3_sensor_link" />
  </joint>
  <link name="tesollo_right_finger_2_seg3_sensor_link">
    <inertial>
      <mass value="0.001"/>
      <inertia ixx="0.00001" ixy="0" ixz="0" iyy="0.00001" iyz="0" izz="0.00001"/>
    </inertial>
    <visual>
      <geometry>
        <cylinder radius="0.005" length="0.001" />
      </geometry>
    </visual>
    <collision>
      <geometry>
        <cylinder radius="0.005" length="0.001" />
      </geometry>
    </collision>
  </link>

  <joint name="tesollo_right_finger_2_tip_sensor_joint" type="fixed">
    <origin xyz="0.01 0 0.035" rpy="0 1.3089969389957472 0" />
    <parent link="tesollo_right_rl_dg_2_4" />
    <child link="tesollo_right_finger_2_tip_sensor_link" />
  </joint>
  <link name="tesollo_right_finger_2_tip_sensor_link">
    <inertial>
      <mass value="0.001"/>
      <inertia ixx="0.00001" ixy="0" ixz="0" iyy="0.00001" iyz="0" izz="0.00001"/>
    </inertial>
    <visual>
      <geometry>
        <cylinder radius="0.005" length="0.001" />
      </geometry>
    </visual>
    <collision>
      <geometry>
        <cylinder radius="0.005" length="0.001" />
      </geometry>
    </collision>
  </link>

  <!-- Finger 3 Sensor Links -->
  <joint name="tesollo_right_finger_3_seg2_sensor_joint" type="fixed">
    <origin xyz="0.0095 0 0.02" rpy="0 1.5708 0" />
    <parent link="tesollo_right_rl_dg_3_2" />
    <child link="tesollo_right_finger_3_seg2_sensor_link" />
  </joint>
  <link name="tesollo_right_finger_3_seg2_sensor_link">
    <inertial>
      <mass value="0.001"/>
      <inertia ixx="0.00001" ixy="0" ixz="0" iyy="0.00001" iyz="0" izz="0.00001"/>
    </inertial>
    <visual>
      <geometry>
        <cylinder radius="0.005" length="0.001" />
      </geometry>
    </visual>
    <collision>
      <geometry>
        <cylinder radius="0.005" length="0.001" />
      </geometry>
    </collision>
  </link>

  <joint name="tesollo_right_finger_3_seg3_sensor_joint" type="fixed">
    <origin xyz="0.0095 0 0.02" rpy="0 1.5708 0" />
    <parent link="tesollo_right_rl_dg_3_3" />
    <child link="tesollo_right_finger_3_seg3_sensor_link" />
  </joint>
  <link name="tesollo_right_finger_3_seg3_sensor_link">
    <inertial>
      <mass value="0.001"/>
      <inertia ixx="0.00001" ixy="0" ixz="0" iyy="0.00001" iyz="0" izz="0.00001"/>
    </inertial>
    <visual>
      <geometry>
        <cylinder radius="0.005" length="0.001" />
      </geometry>
    </visual>
    <collision>
      <geometry>
        <cylinder radius="0.005" length="0.001" />
      </geometry>
    </collision>
  </link>

  <joint name="tesollo_right_finger_3_tip_sensor_joint" type="fixed">
    <origin xyz="0.01 0 0.035" rpy="0 1.3089969389957472 0" />
    <parent link="tesollo_right_rl_dg_3_4" />
    <child link="tesollo_right_finger_3_tip_sensor_link" />
  </joint>
  <link name="tesollo_right_finger_3_tip_sensor_link">
    <inertial>
      <mass value="0.001"/>
      <inertia ixx="0.00001" ixy="0" ixz="0" iyy="0.00001" iyz="0" izz="0.00001"/>
    </inertial>
    <visual>
      <geometry>
        <cylinder radius="0.005" length="0.001" />
      </geometry>
    </visual>
    <collision>
      <geometry>
        <cylinder radius="0.005" length="0.001" />
      </geometry>
    </collision>
  </link>

  <!-- Finger 4 Sensor Links -->
  <joint name="tesollo_right_finger_4_seg2_sensor_joint" type="fixed">
    <origin xyz="0.0095 0 0.02" rpy="0 1.5708 0" />
    <parent link="tesollo_right_rl_dg_4_2" />
    <child link="tesollo_right_finger_4_seg2_sensor_link" />
  </joint>
  <link name="tesollo_right_finger_4_seg2_sensor_link">
    <inertial>
      <mass value="0.001"/>
      <inertia ixx="0.00001" ixy="0" ixz="0" iyy="0.00001" iyz="0" izz="0.00001"/>
    </inertial>
    <visual>
      <geometry>
        <cylinder radius="0.005" length="0.001" />
      </geometry>
    </visual>
    <collision>
      <geometry>
        <cylinder radius="0.005" length="0.001" />
      </geometry>
    </collision>
  </link>

  <joint name="tesollo_right_finger_4_seg3_sensor_joint" type="fixed">
    <origin xyz="0.0095 0 0.02" rpy="0 1.5708 0" />
    <parent link="tesollo_right_rl_dg_4_3" />
    <child link="tesollo_right_finger_4_seg3_sensor_link" />
  </joint>
  <link name="tesollo_right_finger_4_seg3_sensor_link">
    <inertial>
      <mass value="0.001"/>
      <inertia ixx="0.00001" ixy="0" ixz="0" iyy="0.00001" iyz="0" izz="0.00001"/>
    </inertial>
    <visual>
      <geometry>
        <cylinder radius="0.005" length="0.001" />
      </geometry>
    </visual>
    <collision>
      <geometry>
        <cylinder radius="0.005" length="0.001" />
      </geometry>
    </collision>
  </link>

  <joint name="tesollo_right_finger_4_tip_sensor_joint" type="fixed">
    <origin xyz="0.01 0 0.035" rpy="0 1.3089969389957472 0" />
    <parent link="tesollo_right_rl_dg_4_4" />
    <child link="tesollo_right_finger_4_tip_sensor_link" />
  </joint>
  <link name="tesollo_right_finger_4_tip_sensor_link">
    <inertial>
      <mass value="0.001"/>
      <inertia ixx="0.00001" ixy="0" ixz="0" iyy="0.00001" iyz="0" izz="0.00001"/>
    </inertial>
    <visual>
      <geometry>
        <cylinder radius="0.005" length="0.001" />
      </geometry>
    </visual>
    <collision>
      <geometry>
        <cylinder radius="0.005" length="0.001" />
      </geometry>
    </collision>
  </link>

  <!-- Finger 5 Sensor Links -->
  <joint name="tesollo_right_finger_5_seg3_sensor_joint" type="fixed">
    <origin xyz="0.0095 0 0.02" rpy="0 1.5708 0" />
    <parent link="tesollo_right_rl_dg_5_3" />
    <child link="tesollo_right_finger_5_seg3_sensor_link" />
  </joint>
  <link name="tesollo_right_finger_5_seg3_sensor_link">
    <inertial>
      <mass value="0.001"/>
      <inertia ixx="0.00001" ixy="0" ixz="0" iyy="0.00001" iyz="0" izz="0.00001"/>
    </inertial>
    <visual>
      <geometry>
        <cylinder radius="0.005" length="0.001" />
      </geometry>
    </visual>
    <collision>
      <geometry>
        <cylinder radius="0.005" length="0.001" />
      </geometry>
    </collision>
  </link>

  <joint name="tesollo_right_finger_5_tip_sensor_joint" type="fixed">
    <origin xyz="0.01 0 0.045" rpy="0 1.3089969389957472 0" />
    <parent link="tesollo_right_rl_dg_5_4" />
    <child link="tesollo_right_finger_5_tip_sensor_link" />
  </joint>
  <link name="tesollo_right_finger_5_tip_sensor_link">
    <inertial>
      <mass value="0.001"/>
      <inertia ixx="0.00001" ixy="0" ixz="0" iyy="0.00001" iyz="0" izz="0.00001"/>
    </inertial>
    <visual>
      <geometry>
        <cylinder radius="0.005" length="0.001" />
      </geometry>
    </visual>
    <collision>
      <geometry>
        <cylinder radius="0.005" length="0.001" />
      </geometry>
    </collision>
  </link>
</robot>
